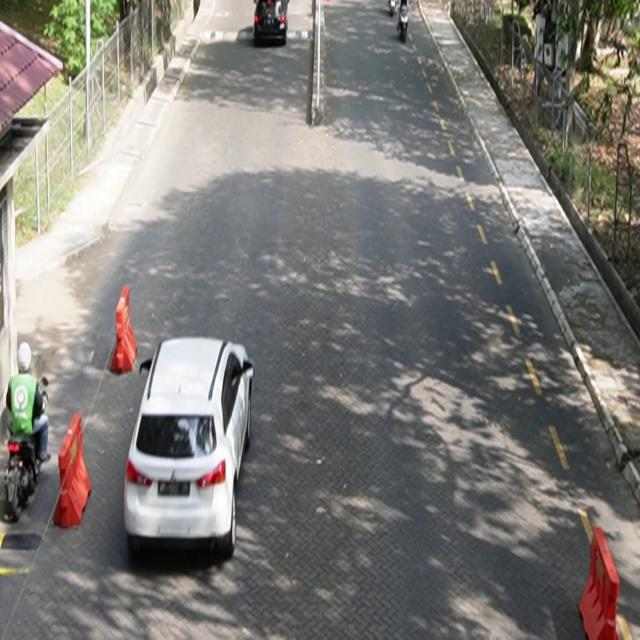car: (124, 336, 256, 559), (254, 1, 290, 47)
